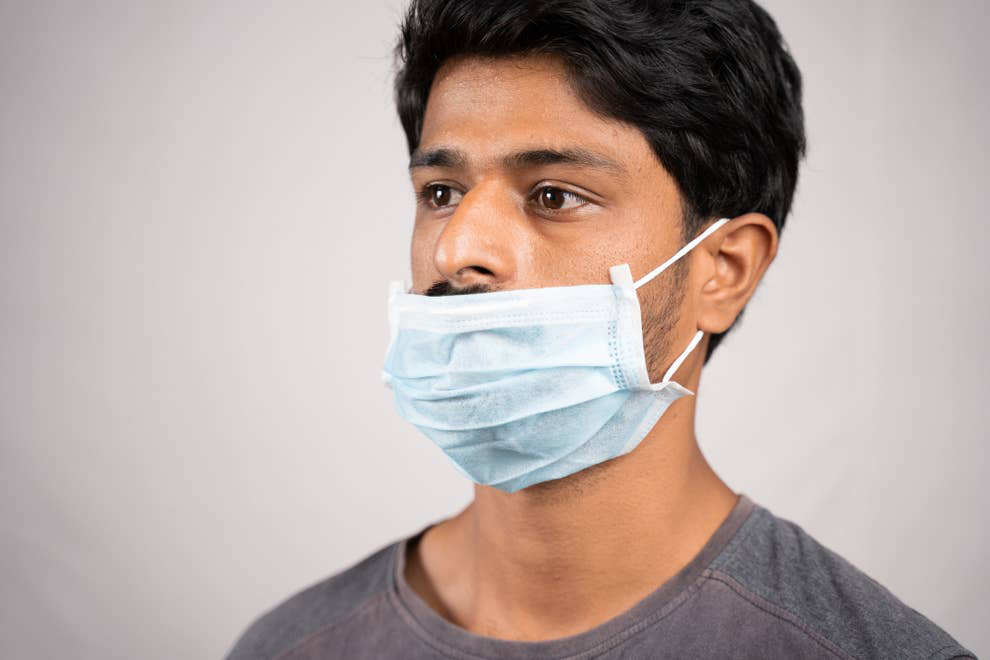mask_weared_incorrect: (383, 141, 667, 494)
